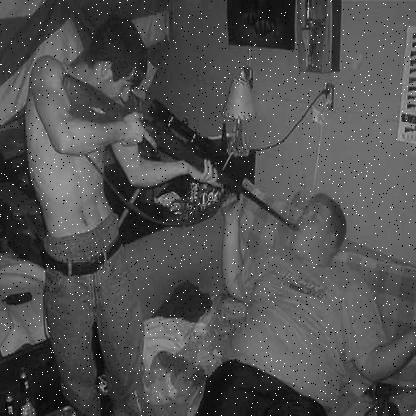rifle: (50, 59, 307, 247)
